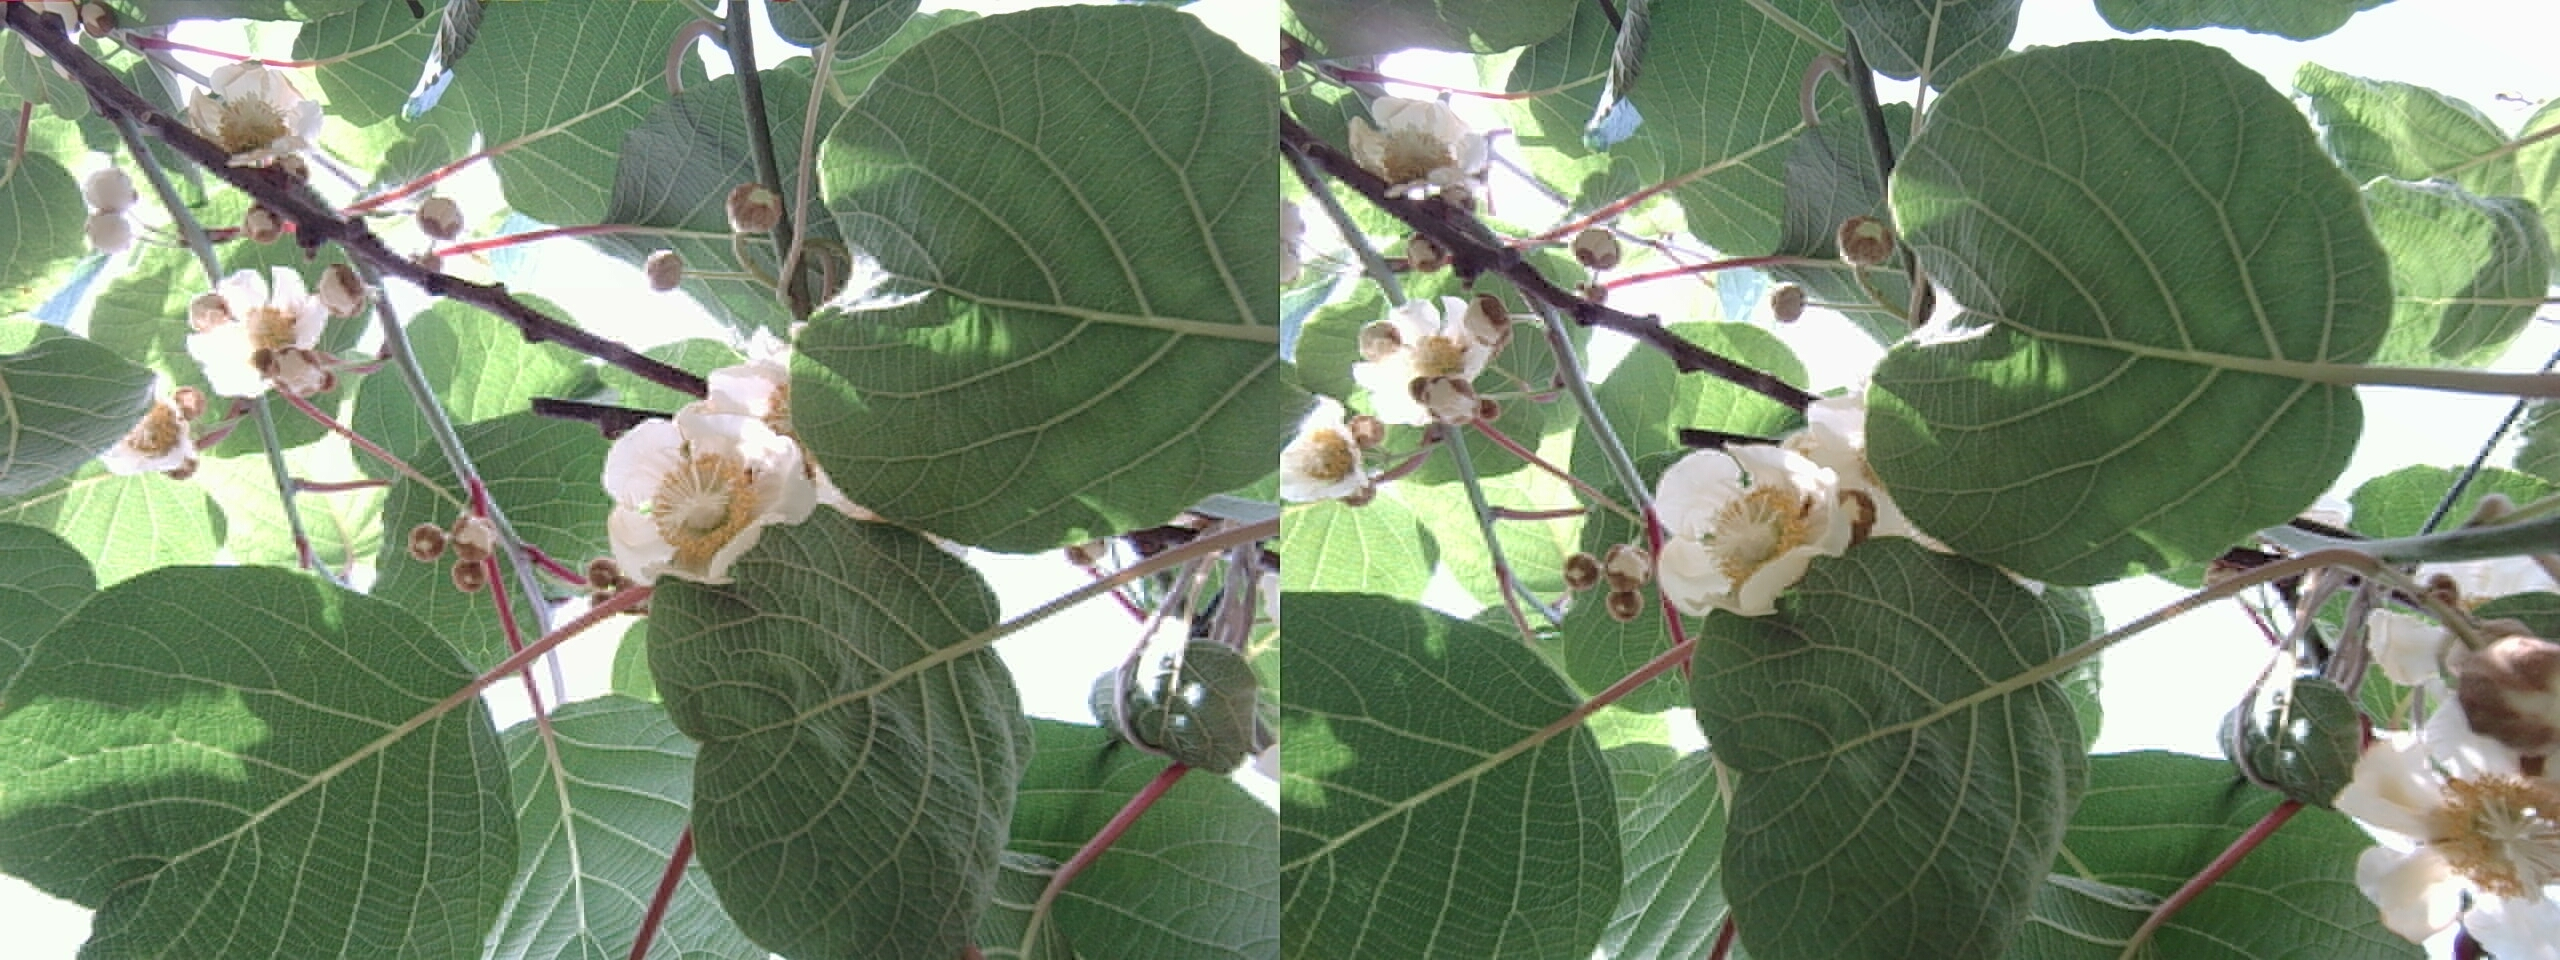flower: (2351, 702, 2558, 927), (593, 390, 811, 586), (1647, 438, 1864, 616), (180, 261, 358, 393), (1349, 291, 1505, 433)
